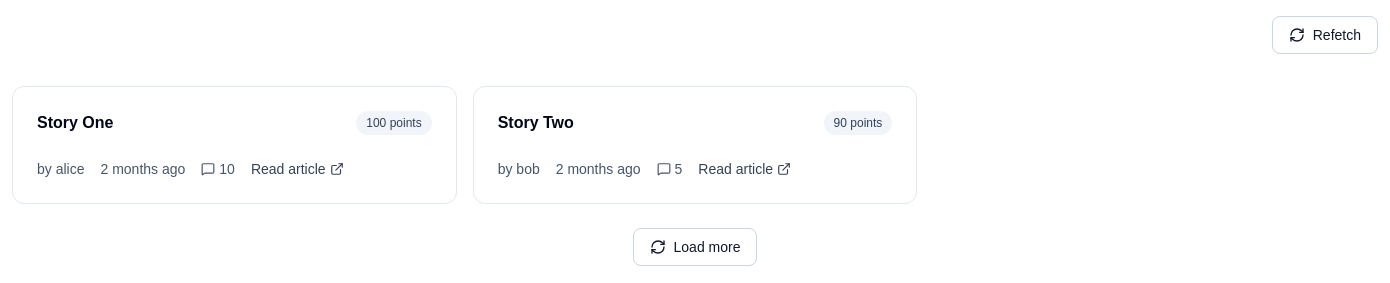
Test: TechnologyStories › loads another page of stories when Load more is clicked
Expected: the link "Story One" is shown, x1=37 y1=114 x2=114 y2=131
Expected: the link "Story Two" is shown, x1=498 y1=114 x2=574 y2=131
Click the Load more button
Click the button "Load more": (695, 247) x1=632 y1=228 x2=757 y2=266
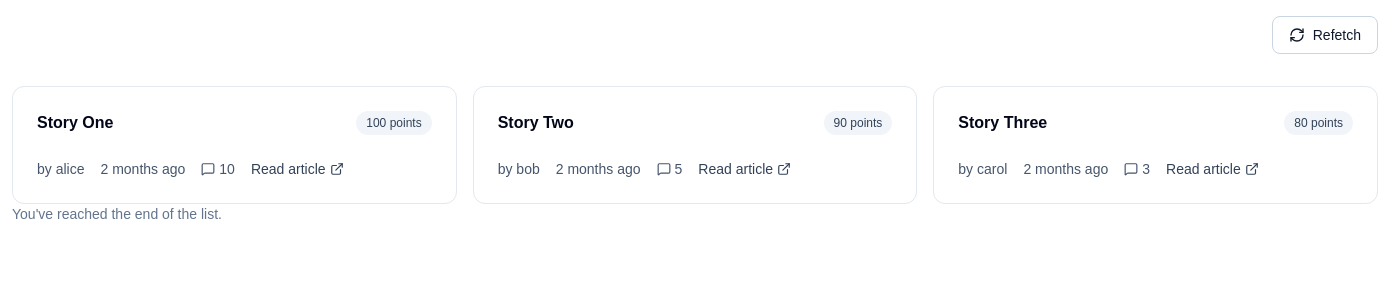
Now the link "Story Three" is shown, box x1=958 y1=114 x2=1047 y2=131
Now the text "You've reached the end of the list." is shown, box x1=12 y1=206 x2=222 y2=222
